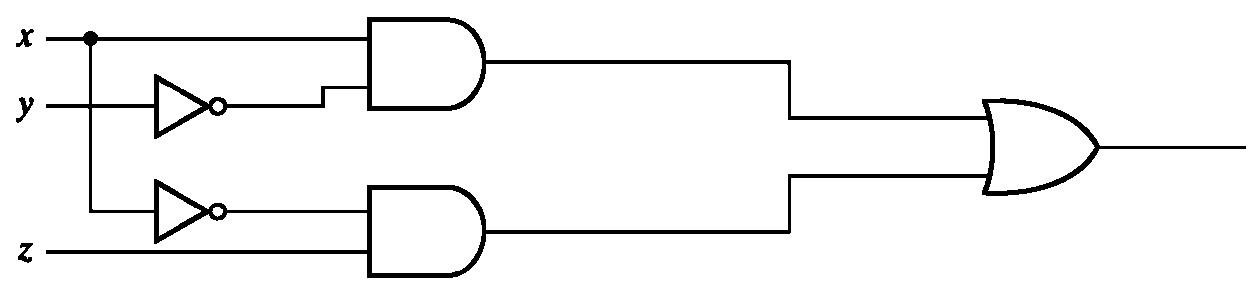and: (357, 6, 495, 120), (357, 179, 495, 282)
not: (144, 64, 236, 146), (146, 172, 231, 246)
or: (976, 89, 1107, 202)
